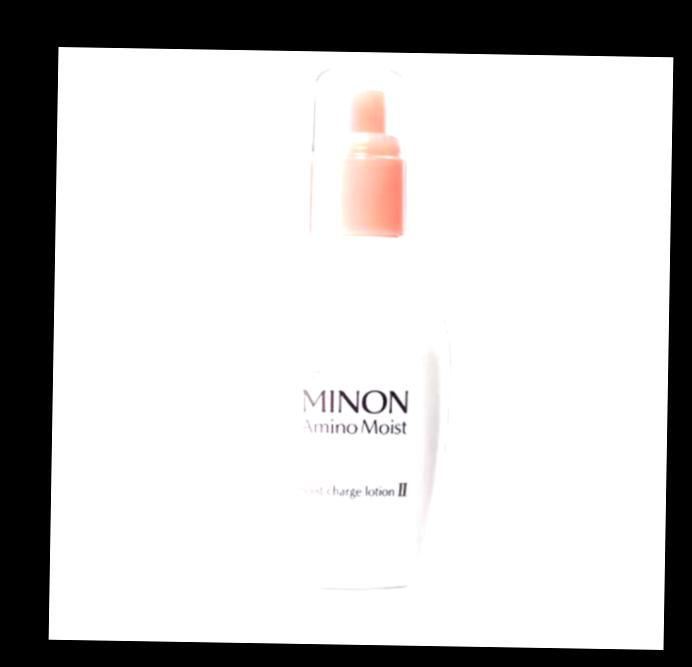cosmetic: (254, 59, 458, 594)
